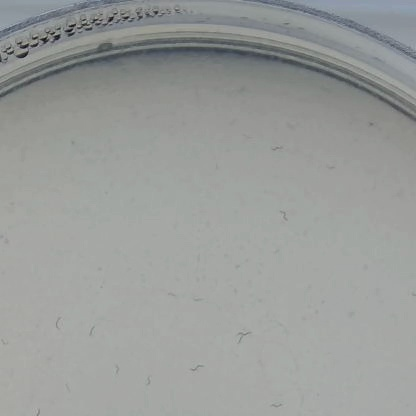worm: (160, 285, 189, 306), (50, 313, 74, 332), (185, 359, 206, 379), (231, 329, 252, 349), (191, 245, 212, 265), (273, 203, 288, 230), (276, 317, 299, 332), (22, 405, 53, 416), (192, 289, 213, 305), (266, 142, 288, 157), (85, 319, 103, 337), (140, 370, 153, 392), (322, 160, 340, 174), (267, 398, 287, 410), (62, 380, 77, 396), (0, 333, 14, 349), (110, 359, 120, 380)
